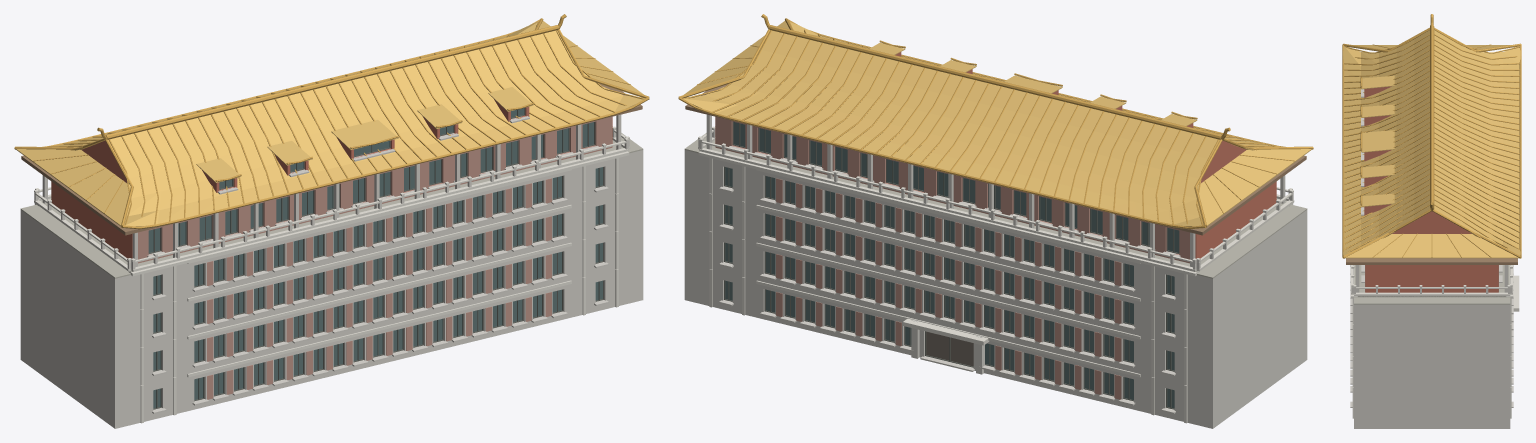
Rendered from xuhui-zhongshan-hospital-main-building-lod.glb.
3 renders of one model, left to right at view 1: azimuth 30°, elevation 25°; view 2: azimuth 150°, elevation 25°; view 3: azimuth 270°, elevation 25°, orthographic. The views are drawn at different scales.
Parts seen in each view (by area): view 1: 中山医院3号楼（历史中央主楼）; view 2: 中山医院3号楼（历史中央主楼）; view 3: 中山医院3号楼（历史中央主楼）.
Boxes of the visible parts, <box> form: 中山医院3号楼（历史中央主楼）: <box>14,14,649,428</box>; 中山医院3号楼（历史中央主楼）: <box>678,14,1313,428</box>; 中山医院3号楼（历史中央主楼）: <box>1342,14,1521,428</box>.
Bounding box in the file's own units: 56.54 × 26.47 × 20.08.
